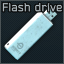Secure Flash drive: (0, 0, 64, 64)
